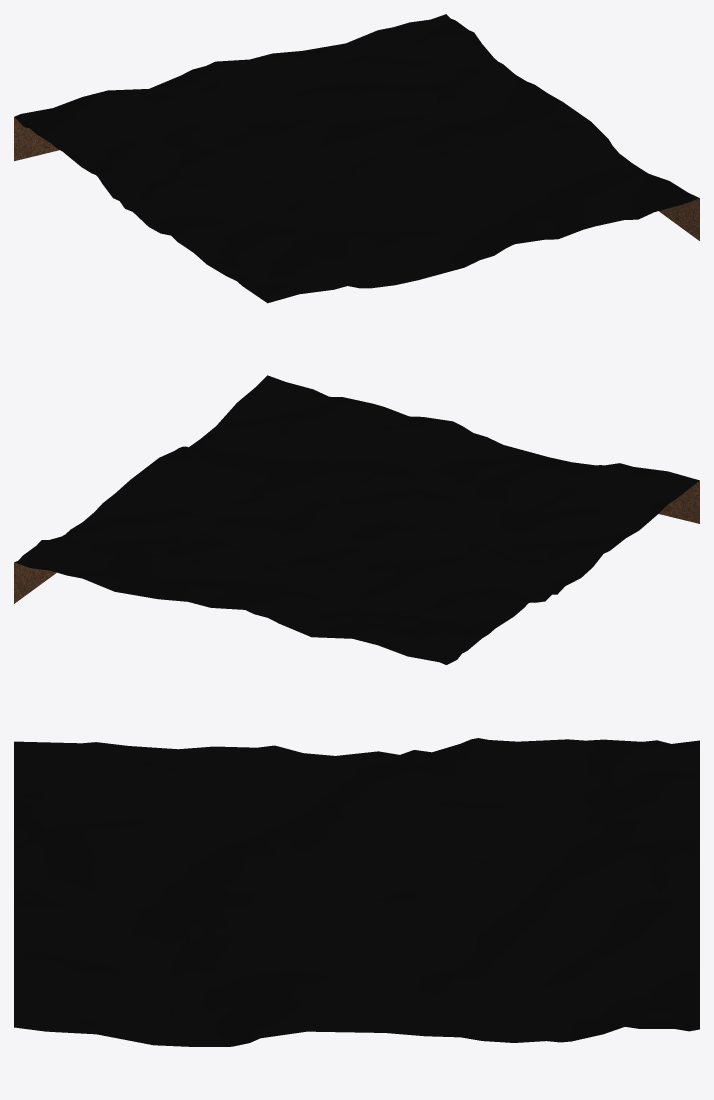
The model's file is map3d-lake.glb.
The picture shows the model from 3 angles, top to bottom: view 1: azimuth 30°, elevation 25°; view 2: azimuth 150°, elevation 25°; view 3: azimuth 270°, elevation 25°; orthographic projection. The views are drawn at different scales.
Parts seen in each view (by area): view 1: tinMesh, side_south_tin, side_west_tin; view 2: tinMesh, side_north_tin, side_west_tin; view 3: tinMesh.
Part boxes in pixels (x1,y1,x2,y2): tinMesh: (14, 14, 699, 303); side_south_tin: (14, 117, 59, 161); side_west_tin: (659, 198, 699, 240); tinMesh: (14, 375, 699, 664); side_north_tin: (659, 480, 699, 523); side_west_tin: (14, 562, 56, 603); tinMesh: (14, 738, 699, 1046).
Size of the model in its own units: 79.17 by 9.52 by 80.42.
Materials: 2 (2 with a texture image).
